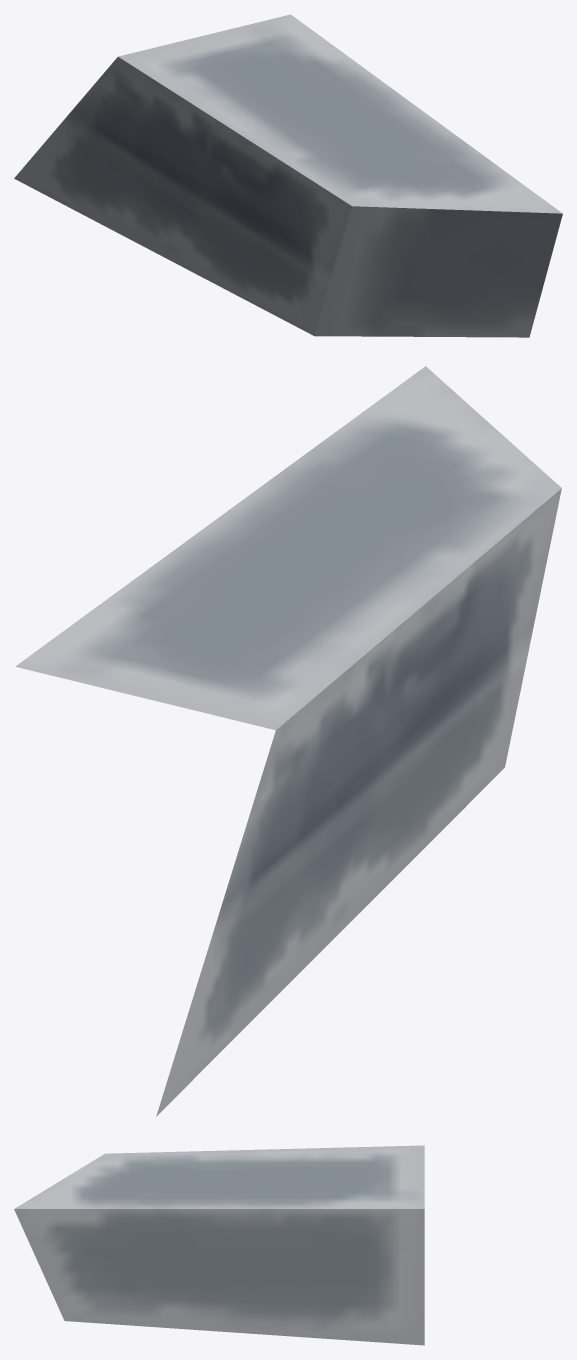
Rendered from chunk_02.glb.
The picture shows the model from 3 angles, top to bottom: view 1: azimuth 30°, elevation 25°; view 2: azimuth 150°, elevation 25°; view 3: azimuth 270°, elevation 25°; orthographic projection. The views are drawn at different scales.
Parts seen in each view (by area): view 1: obsidian_obelisk.chunk_02-MeshNodes["chunk_02"]; view 2: obsidian_obelisk.chunk_02-MeshNodes["chunk_02"]; view 3: obsidian_obelisk.chunk_02-MeshNodes["chunk_02"].
Boxes of the visible parts, box(x1,y1,x2,y2) form: obsidian_obelisk.chunk_02-MeshNodes["chunk_02"]: box(14, 14, 562, 337); obsidian_obelisk.chunk_02-MeshNodes["chunk_02"]: box(15, 366, 561, 1116); obsidian_obelisk.chunk_02-MeshNodes["chunk_02"]: box(14, 1145, 424, 1345).
Size of the model in its own units: 0.2519 by 0.2419 by 0.8575.
1 material, 1 textured.
